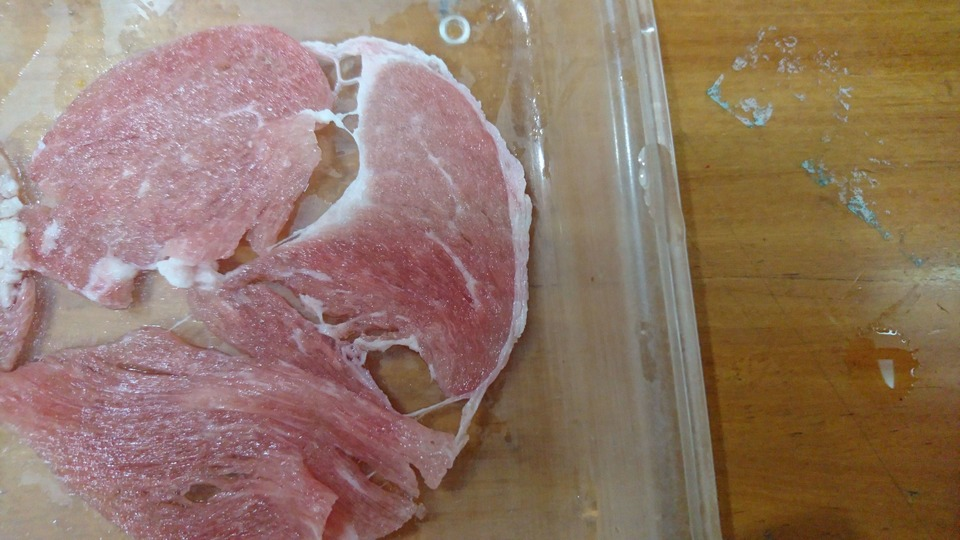restructured meat: (21, 43, 536, 525)
